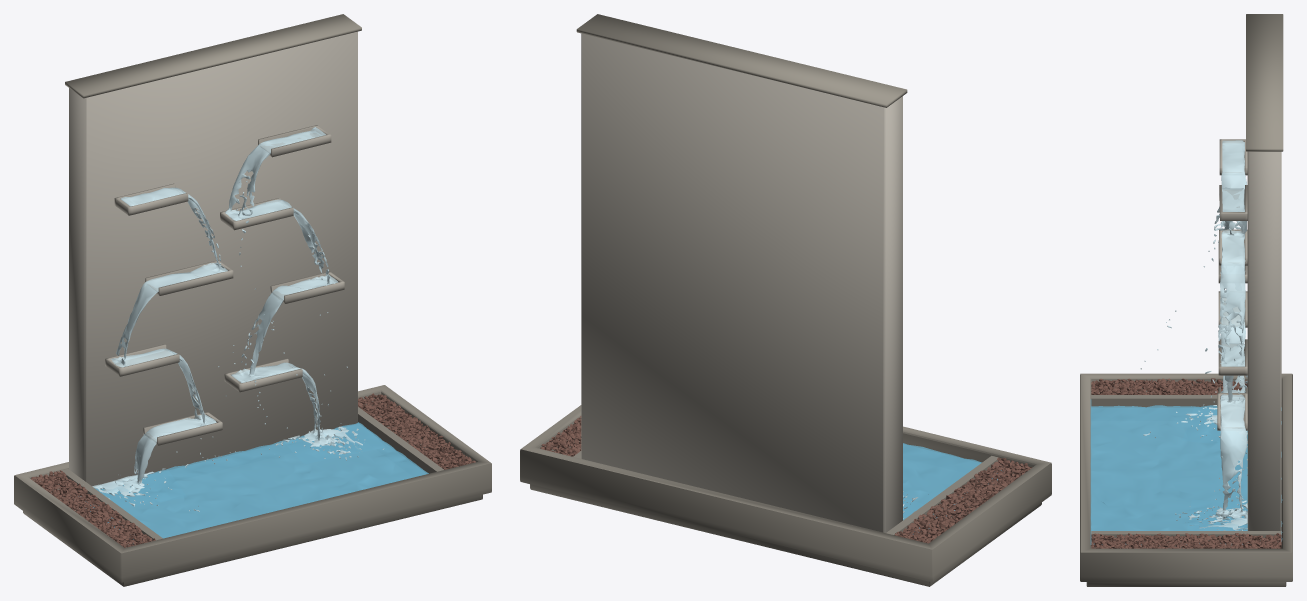
The model's file is fountain.glb.
3 views of the same model, side by side, from view 1: azimuth 30°, elevation 25°; view 2: azimuth 150°, elevation 25°; view 3: azimuth 270°, elevation 25° (orthographic). The views are drawn at different scales.
Parts seen in each view (by area): view 1: Box498809; view 2: Box498809; view 3: Box498809.
Part boxes in pixels (<box>): Box498809: <box>14,14,491,586</box>; Box498809: <box>520,14,1051,586</box>; Box498809: <box>1080,14,1292,586</box>.
Bounding box in the file's own units: 2.49 × 2.71 × 1.25.
